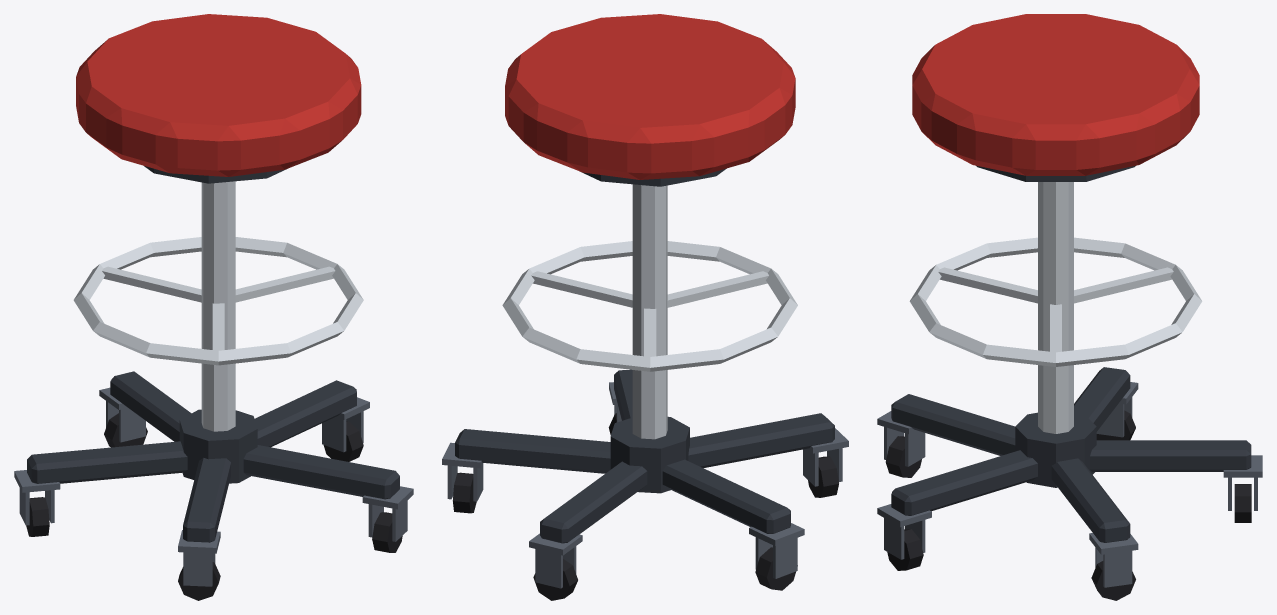
File: Shop_Stool.fbx
3 views of the same model, side by side, from view 1: azimuth 30°, elevation 25°; view 2: azimuth 150°, elevation 25°; view 3: azimuth 270°, elevation 25° (orthographic).
Parts seen in each view (by area): view 1: Shop_Stool; view 2: Shop_Stool; view 3: Shop_Stool.
Boxes of the visible parts, x1,y1,x2,y2 form: Shop_Stool: (14, 14, 413, 600); Shop_Stool: (442, 14, 848, 600); Shop_Stool: (877, 14, 1262, 600).
Size of the model in its own units: 0.498 by 0.615 by 0.4736.
1 material, 1 textured.
